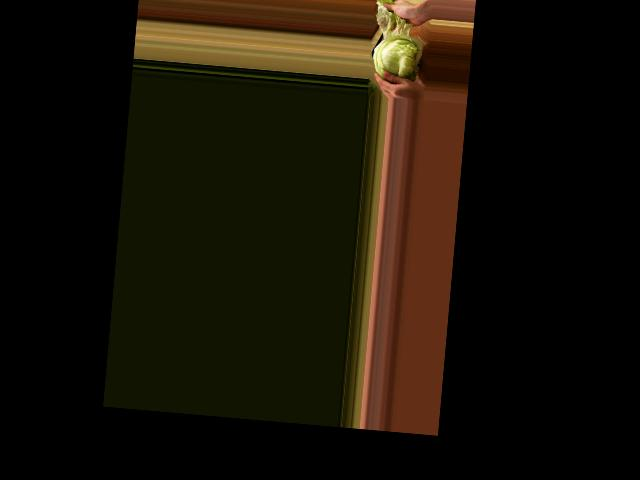lettuce: (369, 21, 427, 86)
